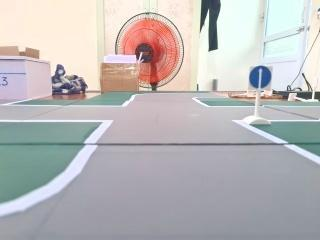straight: (247, 64, 275, 92)
